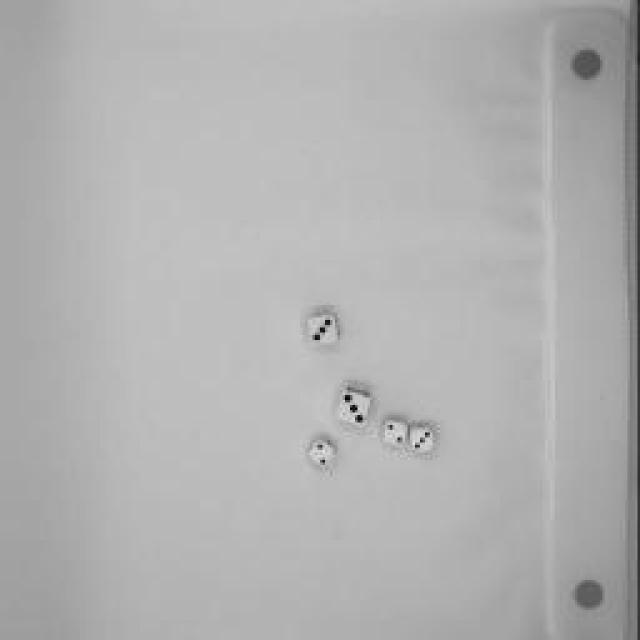dice_2: (304, 433, 341, 475), (381, 416, 411, 452)
dice_3: (331, 385, 379, 427), (305, 310, 345, 350), (405, 425, 440, 455)
